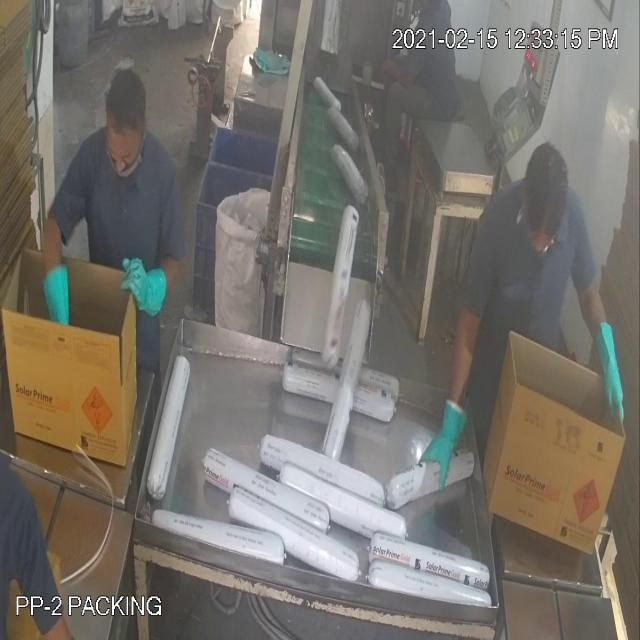gloves: (416, 298, 484, 495), (560, 264, 630, 430), (35, 215, 86, 345), (114, 251, 182, 328)
no-gloves: (379, 53, 419, 96)
